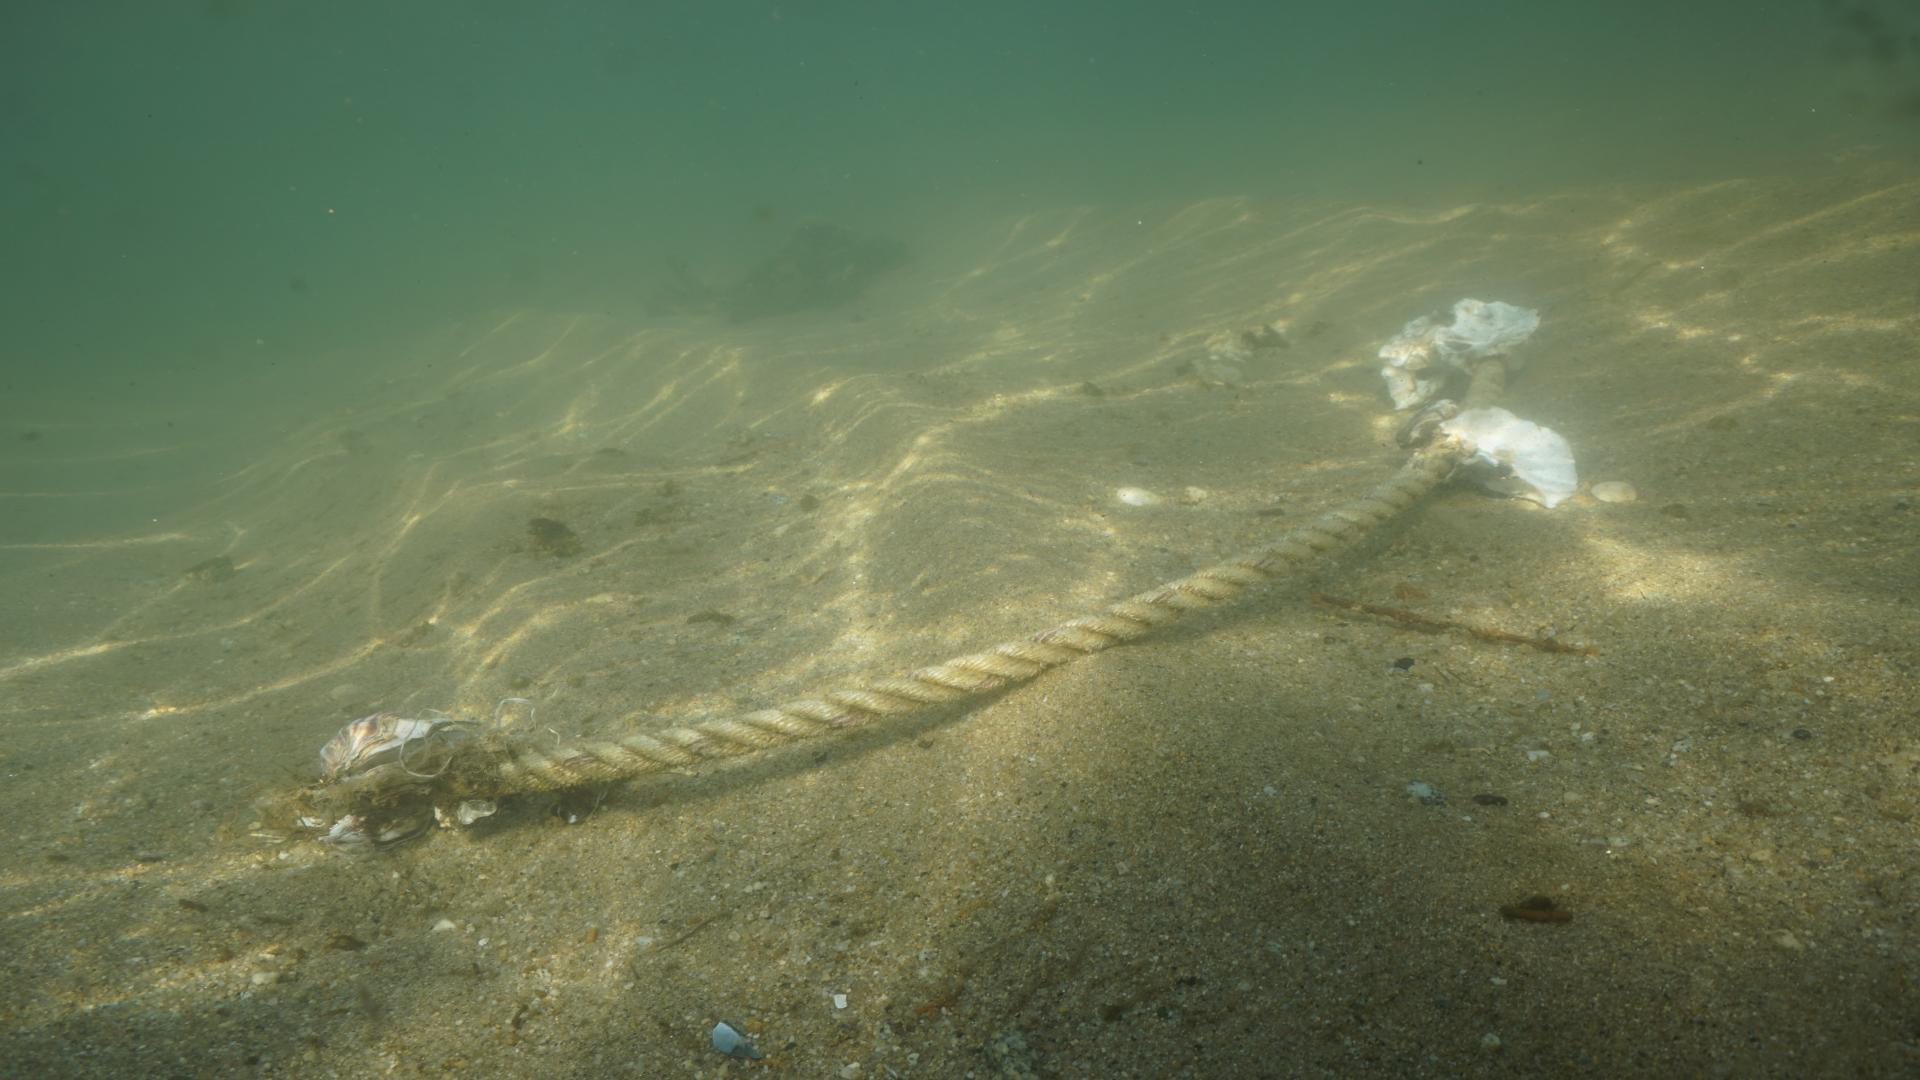rope: (491, 371, 1501, 804)
